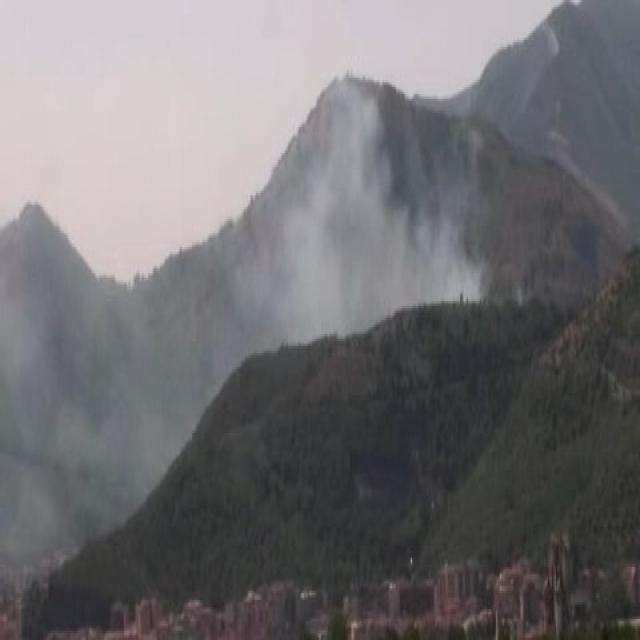smoke: (268, 97, 475, 328), (11, 308, 168, 505)
